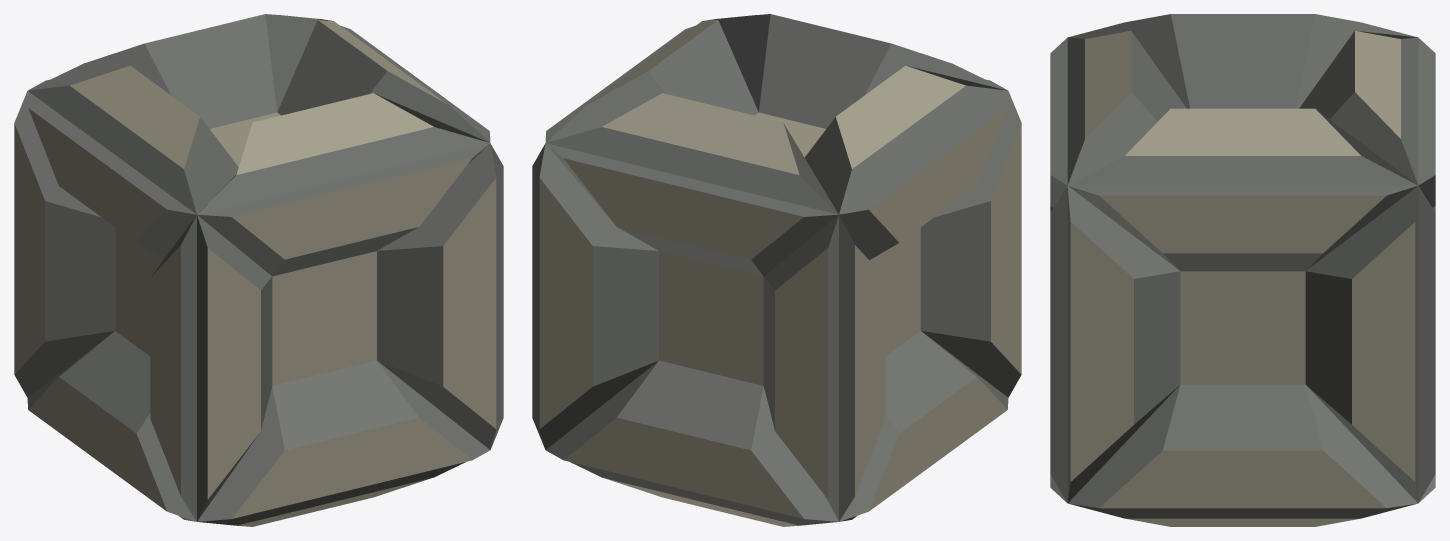
The model's file is SonoriumEssence.fbx.
The picture shows the model from 3 angles, left to right: view 1: azimuth 30°, elevation 25°; view 2: azimuth 150°, elevation 25°; view 3: azimuth 270°, elevation 25°; orthographic projection. The views are drawn at different scales.
Visible parts, largest first — view 1: Cube; view 2: Cube; view 3: Cube.
Boxes of the visible parts, x1,y1,x2,y2 form: Cube: [14, 14, 503, 526]; Cube: [532, 14, 1021, 526]; Cube: [1050, 14, 1435, 526].
Bounding box in the file's own units: 177 × 212 × 177.
